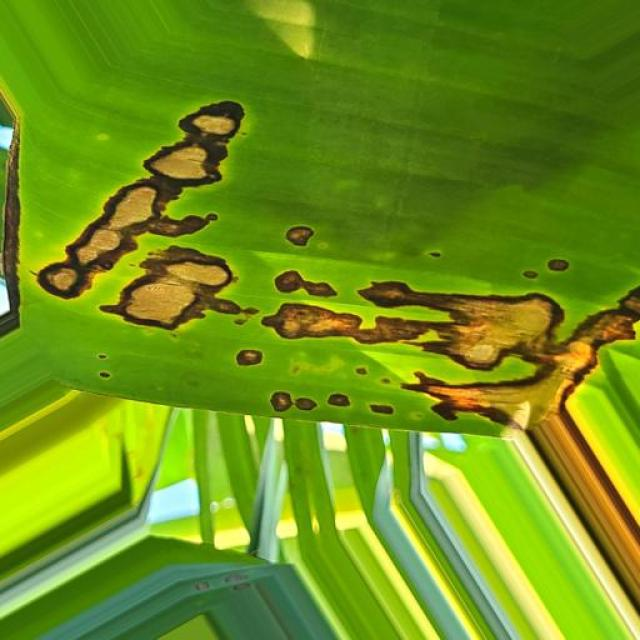Early_rust: (34, 83, 640, 469)
